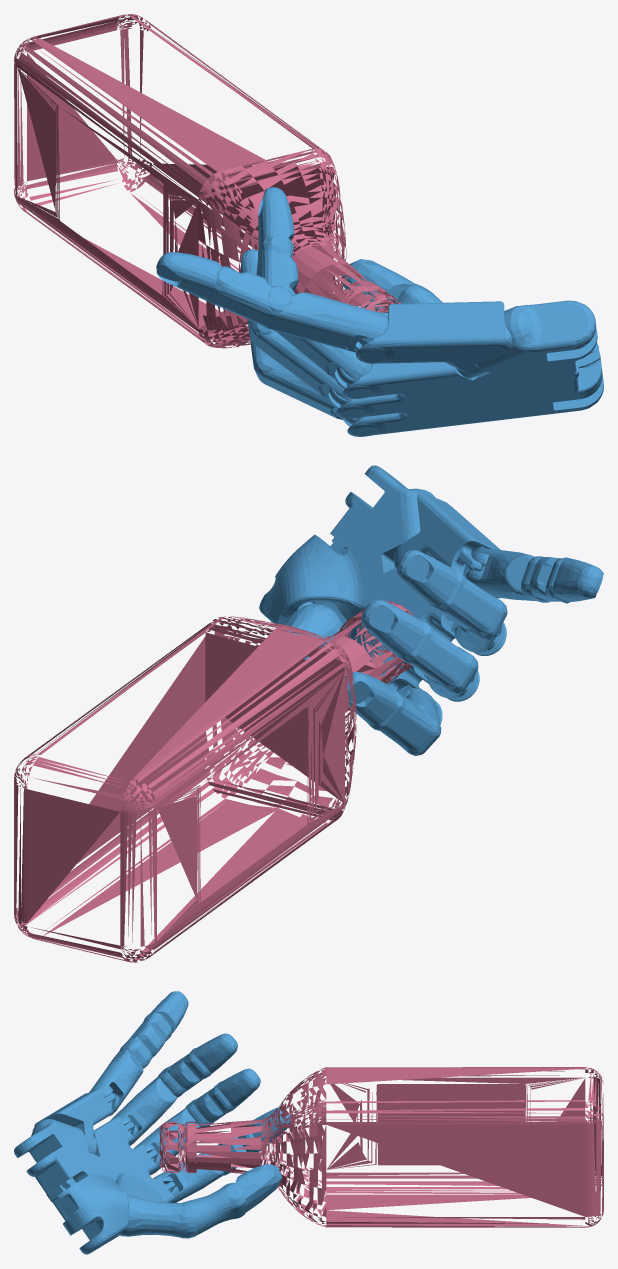
3 renders of one model, top to bottom at view 1: azimuth 30°, elevation 25°; view 2: azimuth 150°, elevation 25°; view 3: azimuth 270°, elevation 25°, orthographic. The views are drawn at different scales.
Visible parts, largest first — view 1: vis_all(1); view 2: vis_all(1); view 3: vis_all(1).
Boxes of the visible parts, box(x1,y1,x2,y2) form: vis_all(1): box(14, 14, 603, 436); vis_all(1): box(14, 465, 603, 962); vis_all(1): box(14, 991, 603, 1254).
Size of the model in its own units: 0.1936 by 0.108 by 0.3595.
